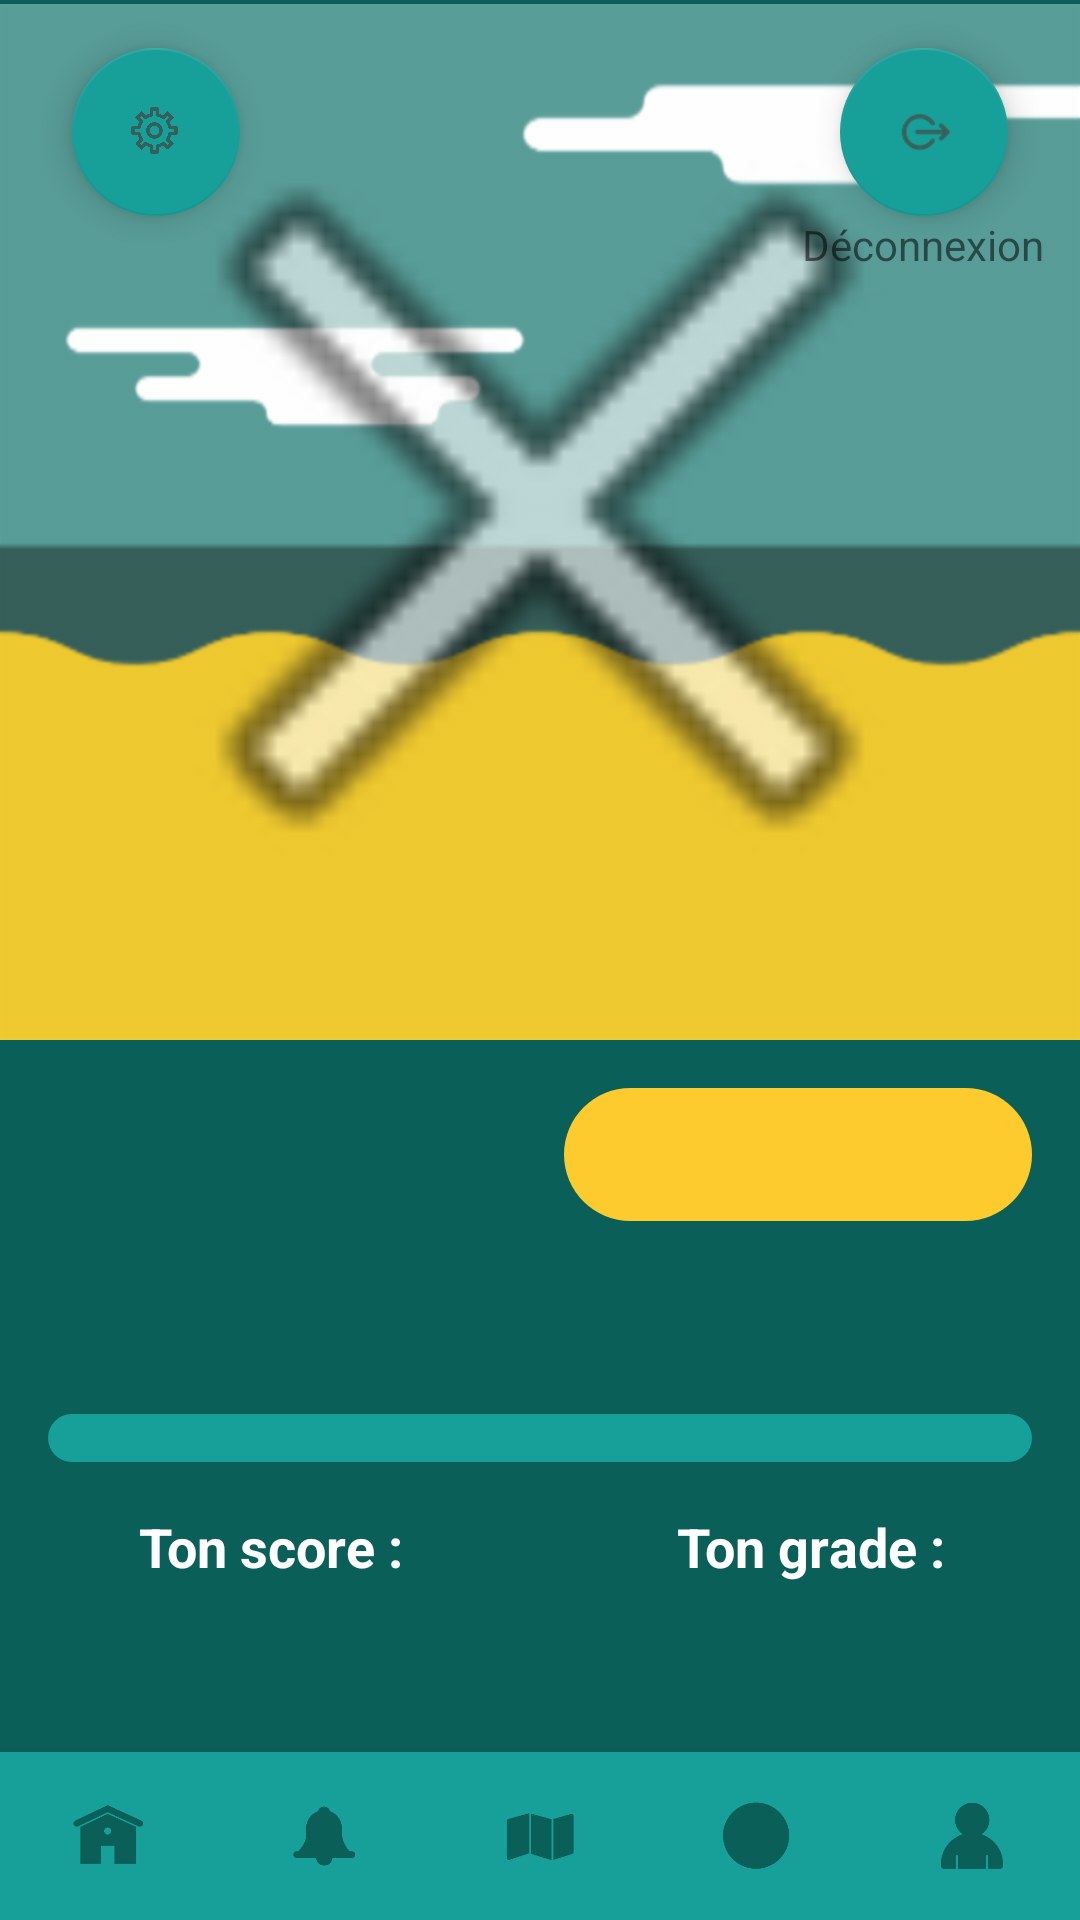

Screen size 1080x1920. Icon name, then its center in pixels as (x,y):
parameters: (156,132)
